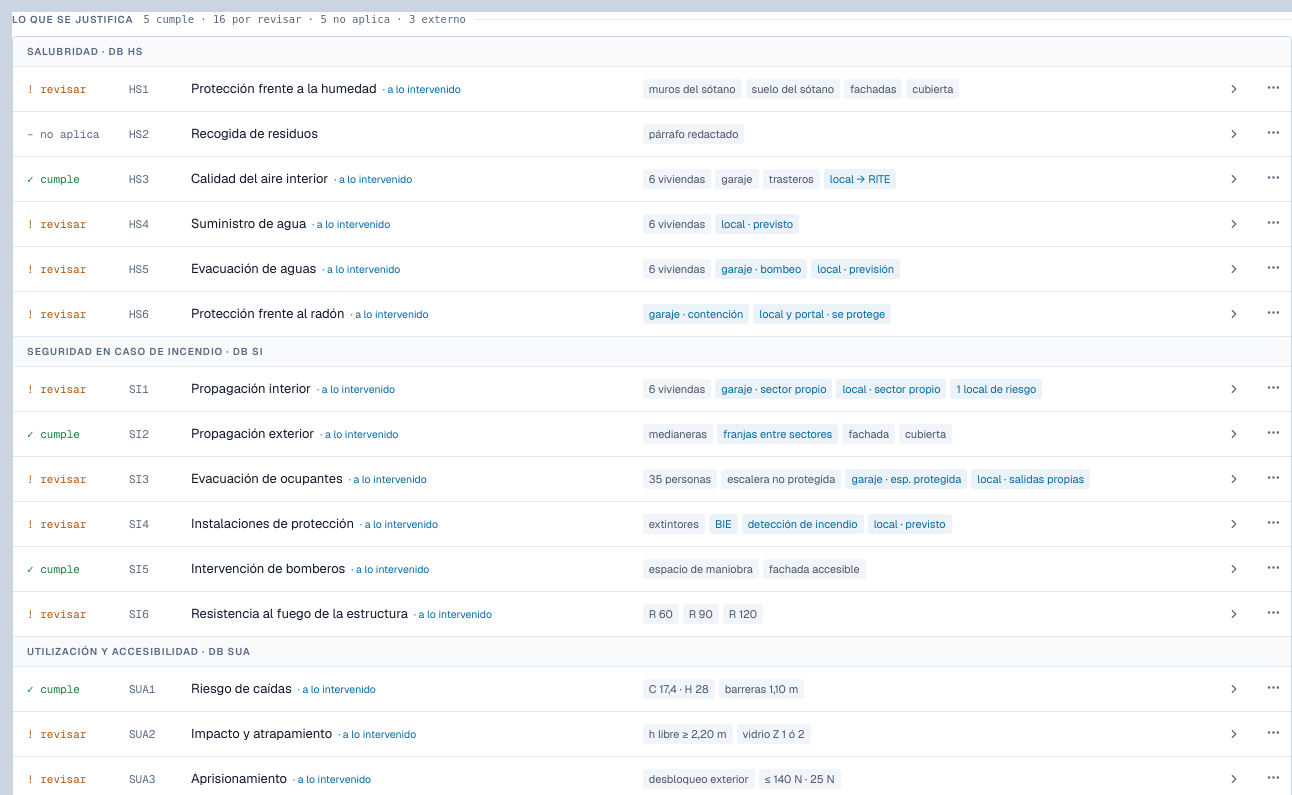
Test: Lo que se justifica › menú ⋯ de aplicabilidad › en una reforma, la propuesta «a lo intervenido» se marca en la fila y se puede leer
The image size is (1292, 795).
Expected: the text "· a lo intervenido" next to "Suministro de agua" is shown, 312,217 -> 390,231
Click the button named "Opciones de aplicabilidad de HS4".
click(1273, 222)  # box 1262,211 -> 1284,234
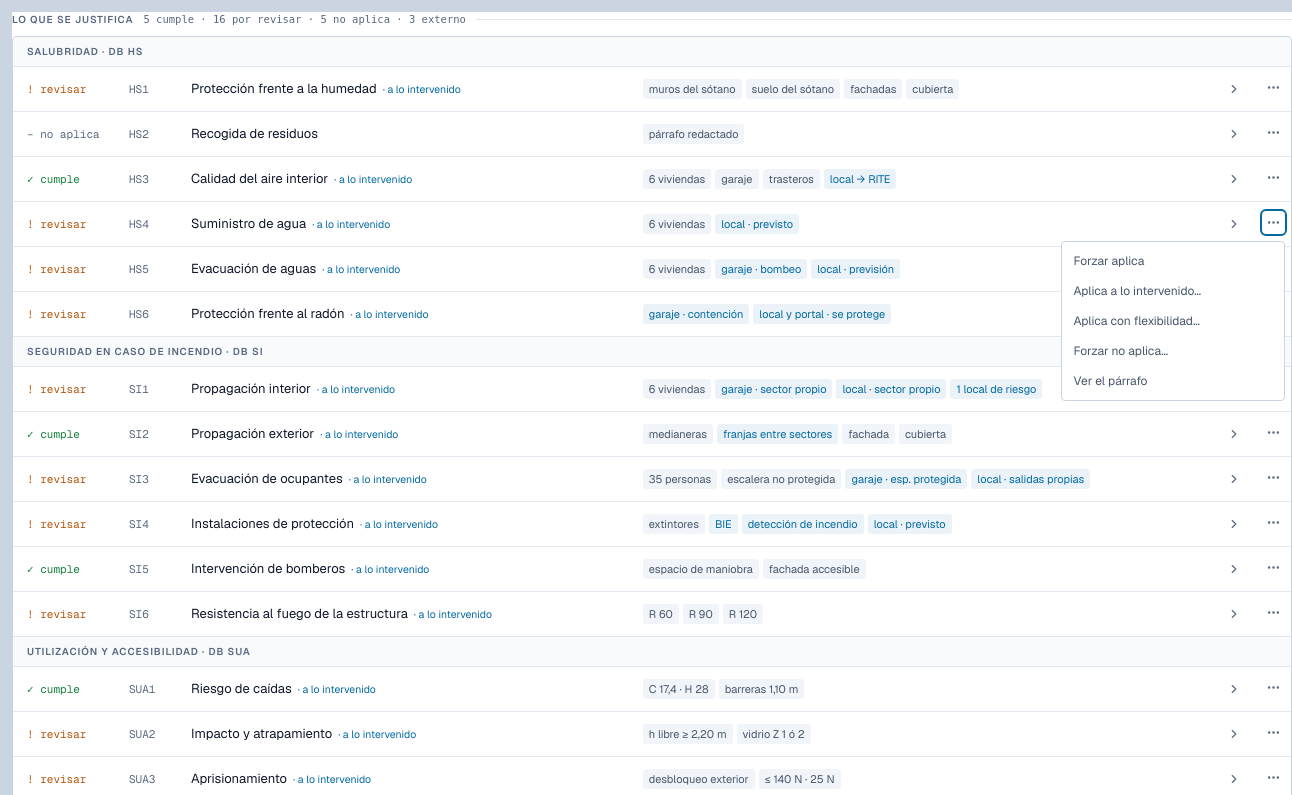
Click the menu item "Ver el párrafo".
click(1172, 381)  # box 1062,366 -> 1284,396
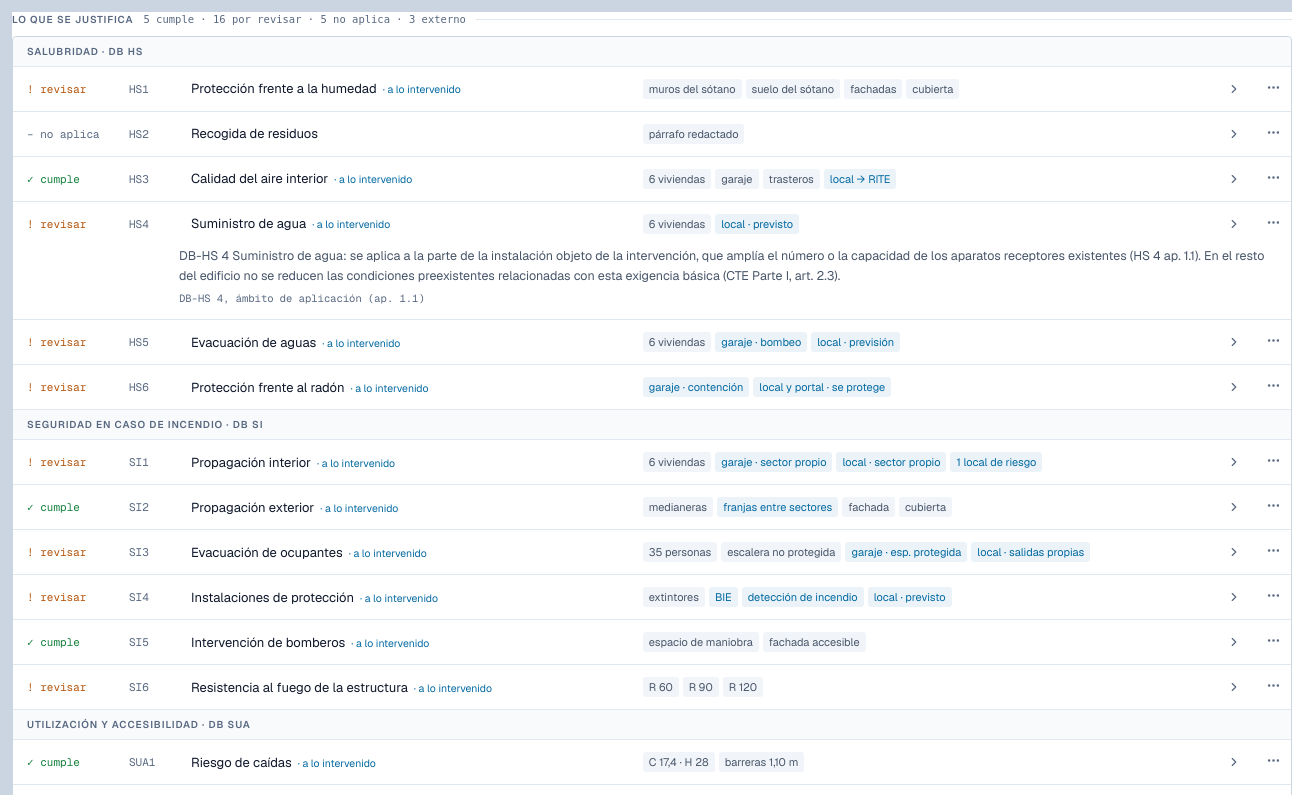
Expected: the text "DB-HS 4 Suministro de agua: se aplica" is shown, 179,247 -> 1264,284
